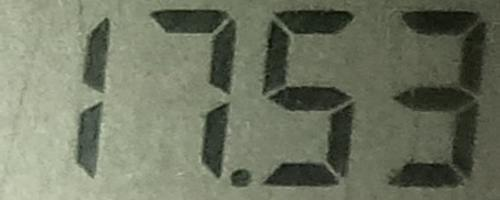.: (227, 165, 255, 191)
